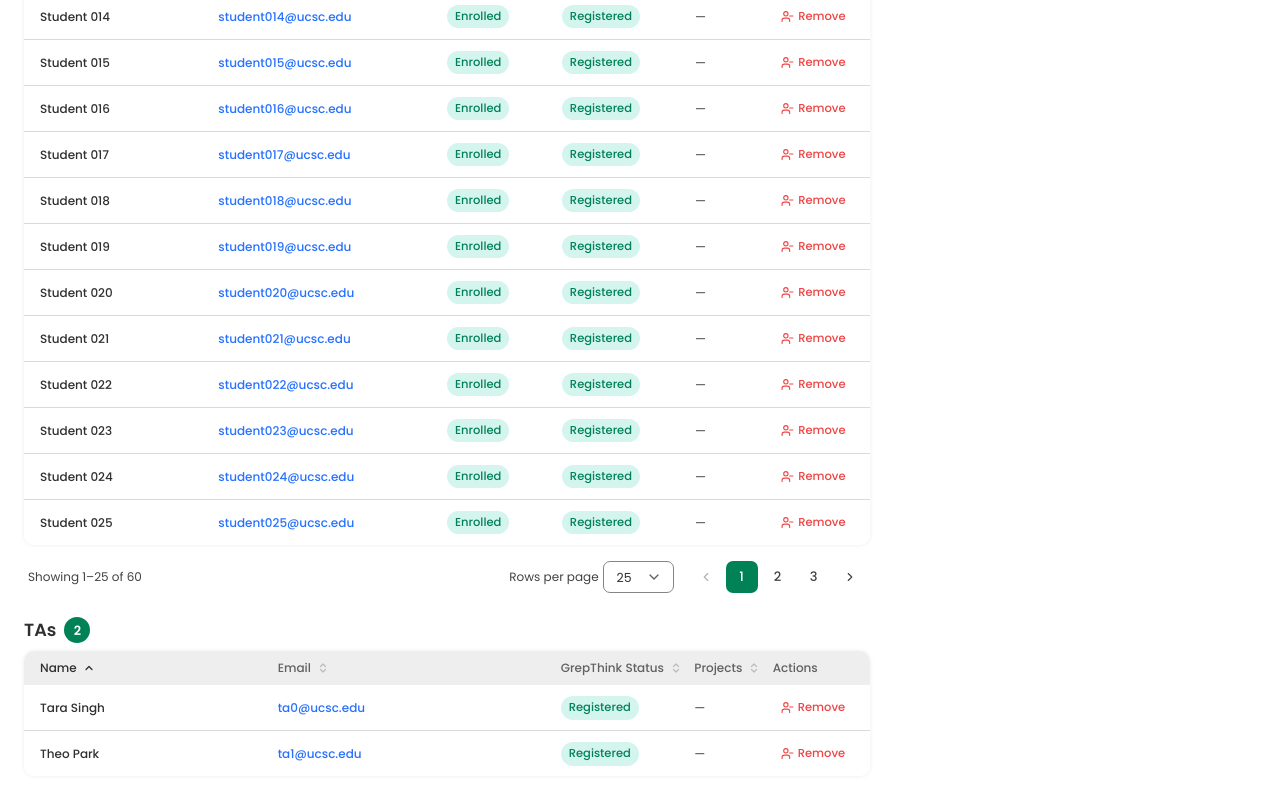
it: Roster — paging the student list › sorts the whole list before paging, and goes back to page 1
The width and height of the screenshot is (1280, 800).
(page scrolled)
Step 1. Click the button named "Page 2" → (778, 577), box [762,561,794,593]
(page scrolled)
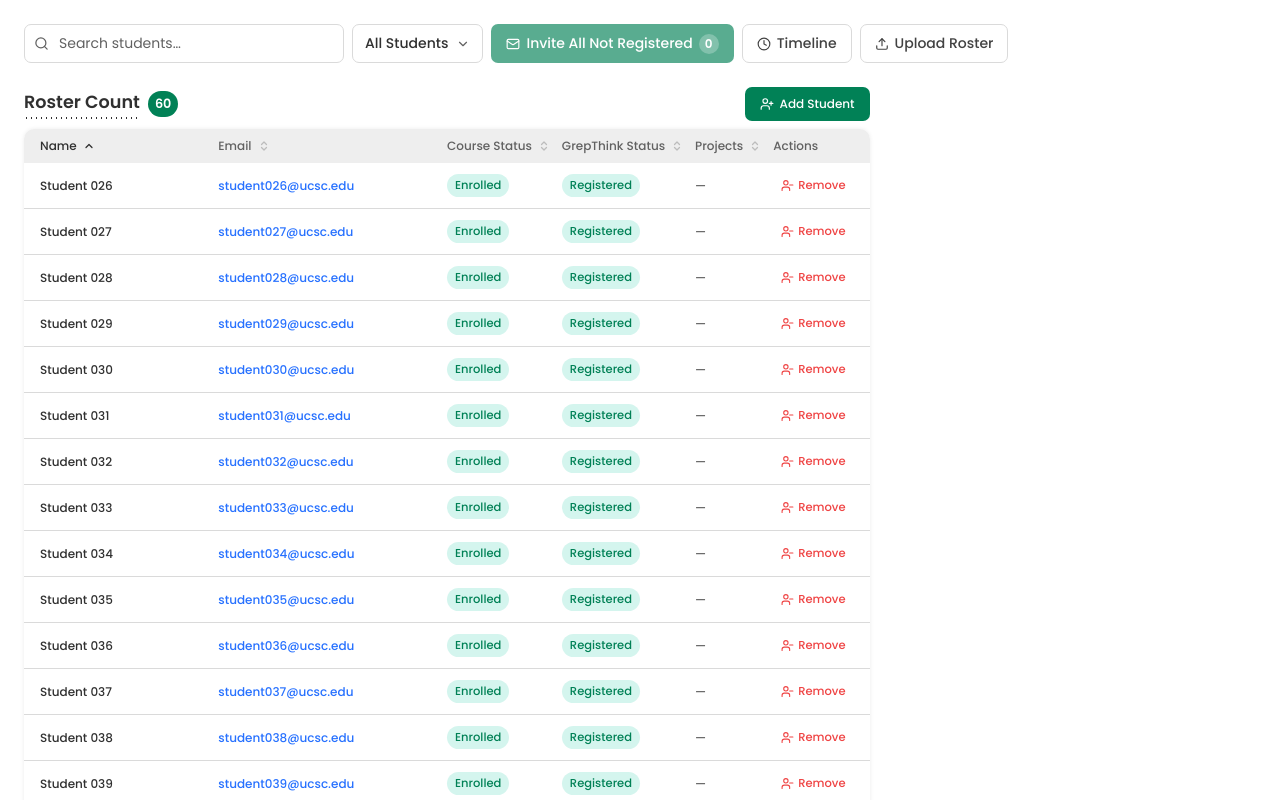
Step 2. Click the button "Name" → (67, 146), box [40,137,95,155]
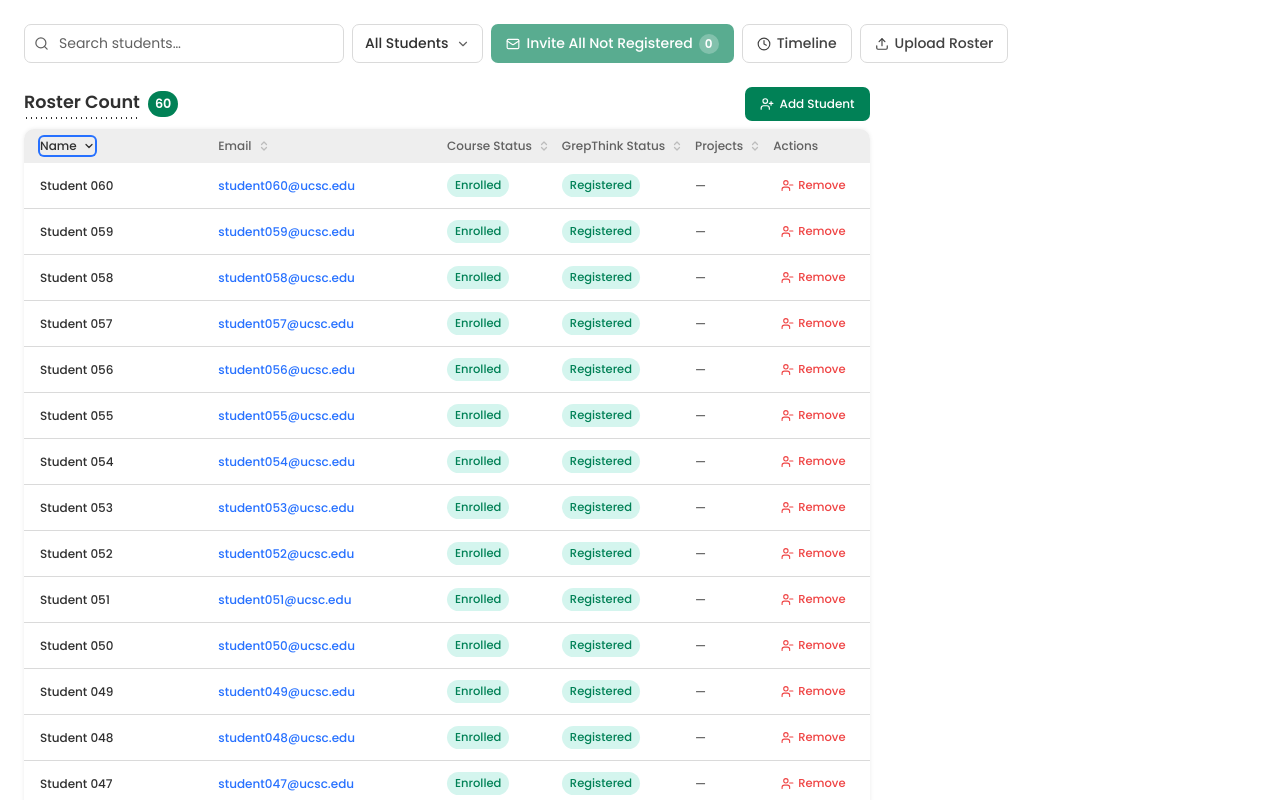
Now the text "Student 060" is shown, box [24,163,212,208]
